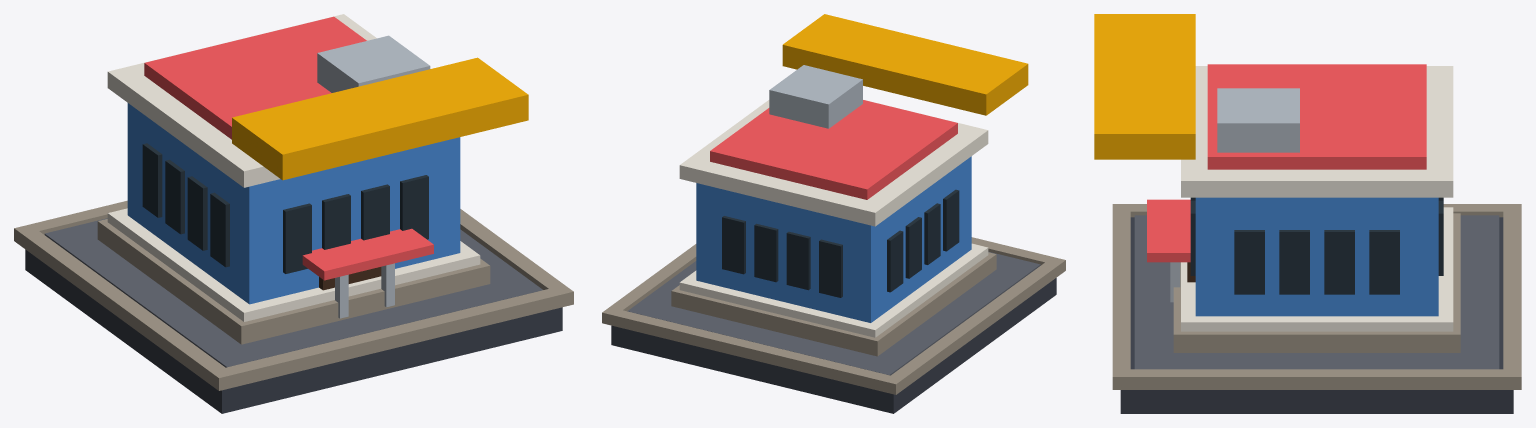
The model's file is city.shop_convenience.glb.
3 renders of one model, left to right at view 1: azimuth 30°, elevation 25°; view 2: azimuth 150°, elevation 25°; view 3: azimuth 270°, elevation 25°, orthographic. The views are drawn at different scales.
Parts seen in each view (by area): view 1: city.shop_convenience; view 2: city.shop_convenience; view 3: city.shop_convenience.
Boxes of the visible parts, x1,y1,x2,y2 form: city.shop_convenience: [14, 14, 573, 413]; city.shop_convenience: [602, 14, 1065, 413]; city.shop_convenience: [1094, 14, 1521, 413].
Bounding box in the file's own units: 2.02 × 1.4 × 2.11.
